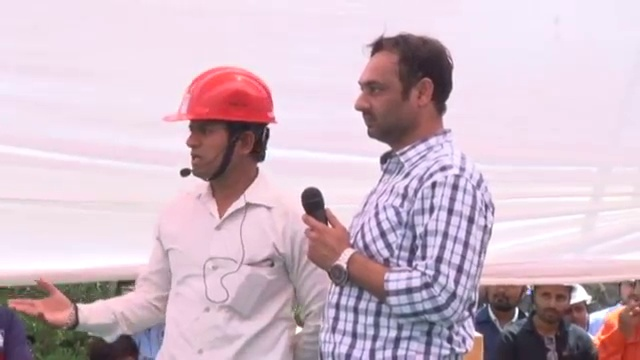helmet: (165, 65, 279, 129), (567, 284, 596, 308)
helmet_off: (350, 34, 458, 147), (555, 285, 606, 329), (487, 280, 526, 310), (618, 279, 640, 309)
helmet_on: (166, 63, 280, 183), (529, 283, 573, 328), (566, 282, 597, 331)
person: (3, 61, 331, 358), (302, 30, 493, 360), (496, 285, 595, 357), (467, 275, 534, 357), (598, 282, 640, 358)
